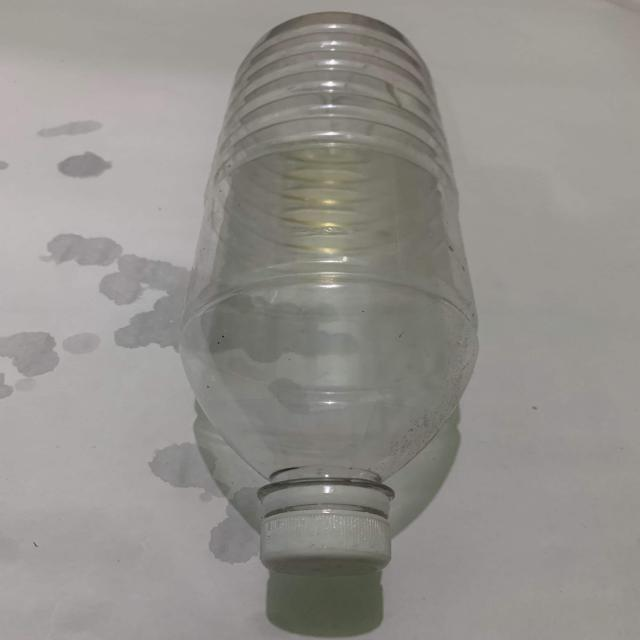bottle: (174, 5, 500, 610)
